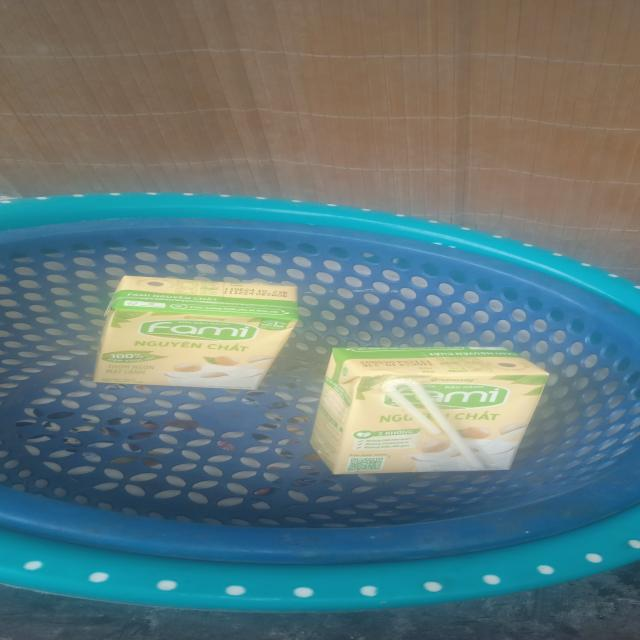Fami: (309, 344, 551, 476), (93, 274, 298, 386)
